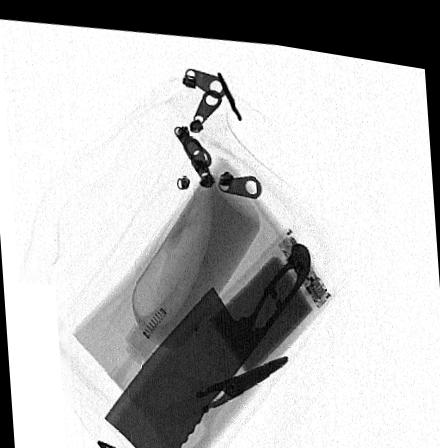Knife: (101, 233, 308, 448), (144, 342, 293, 448)
Powerbank: (195, 215, 335, 380)
